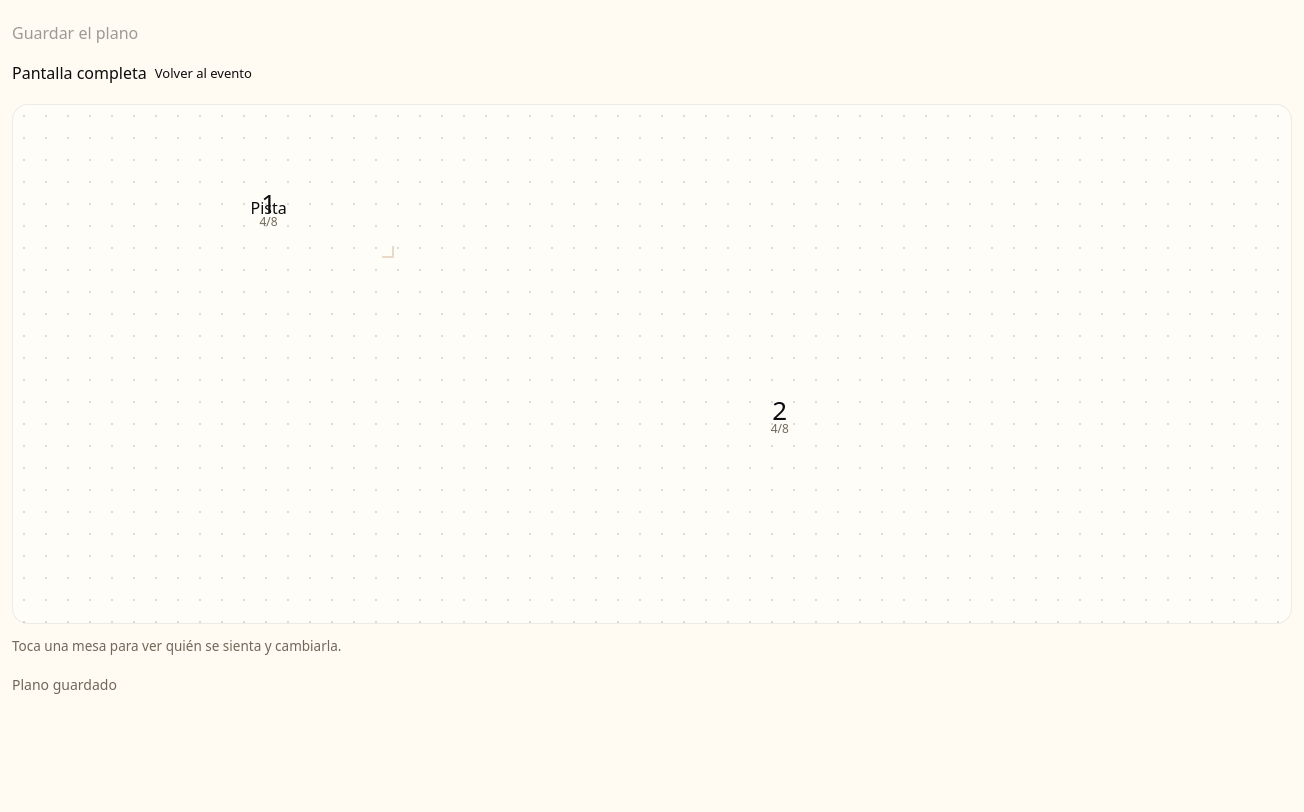
FloorPlan › tras guardar, el botón vuelve a estar deshabilitado
The image size is (1304, 812).
Press the mouse on the button named "Mesa 01" at (269, 209), box [231,171,307,247]
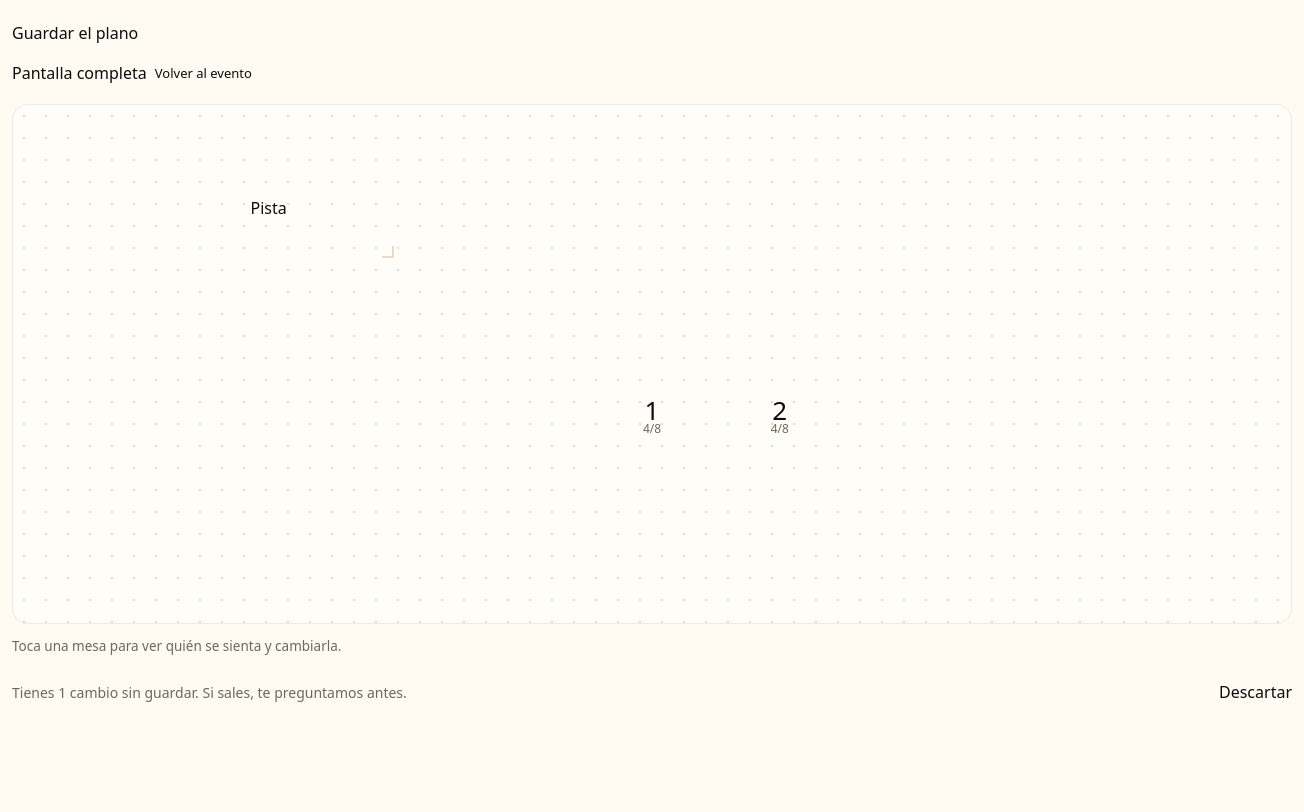
Click the button "Guardar el plano" at (75, 34), box [12,12,138,56]
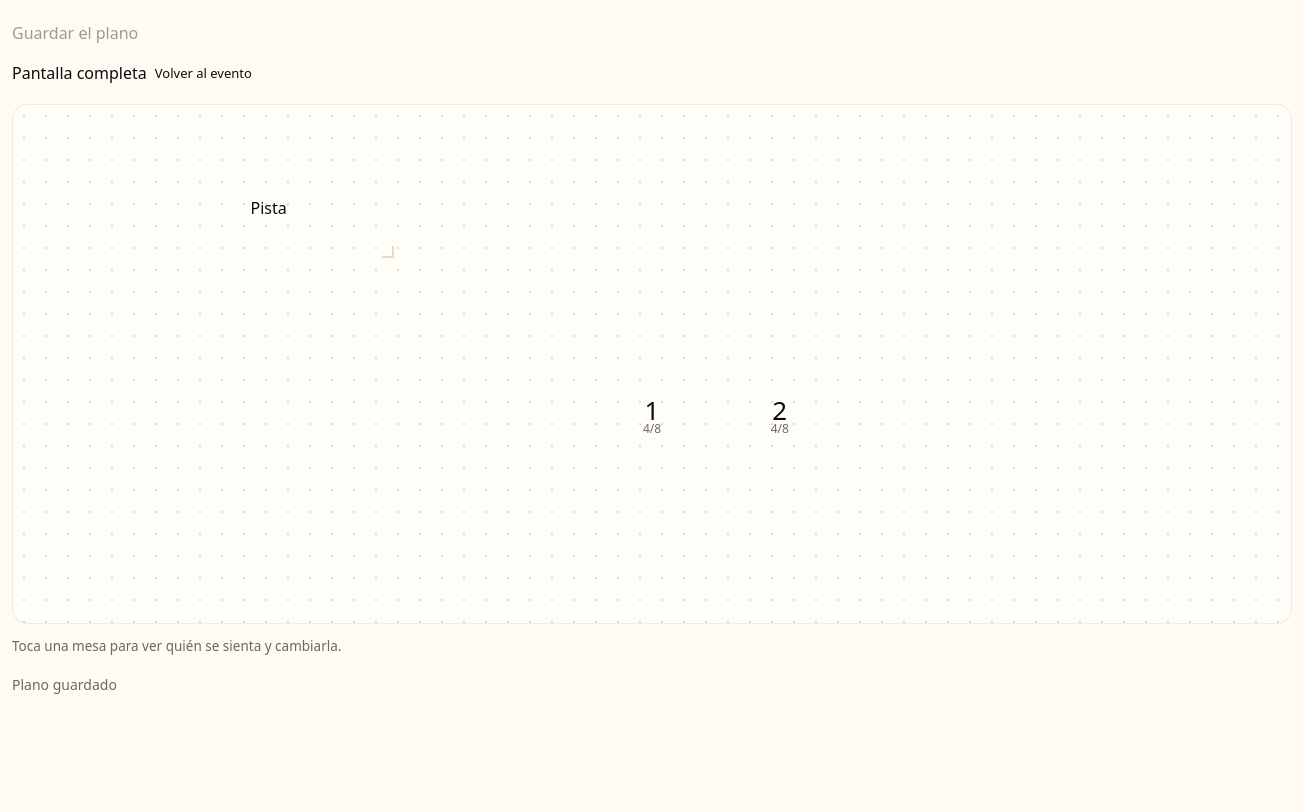
Expected: the button "Guardar el plano" is disabled, [12,12,138,56]
